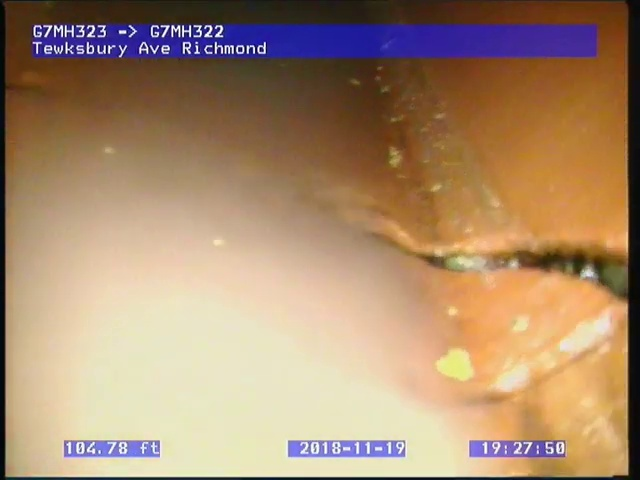crack: (344, 213, 626, 314)
